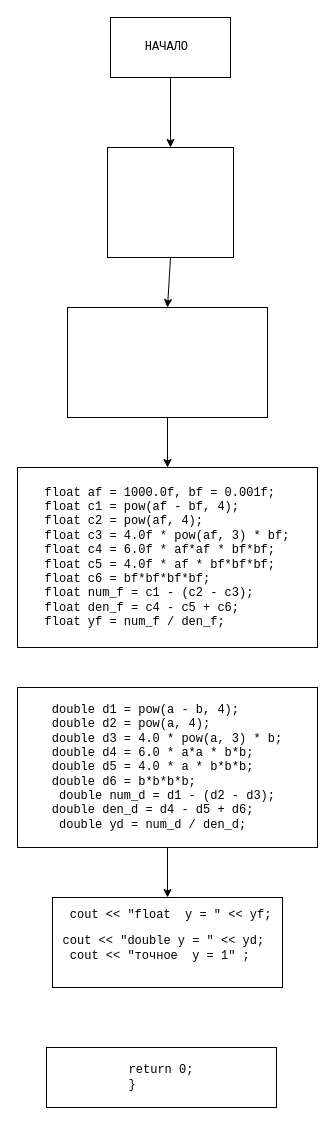
The diagram is 335 pixels wide and 1125 high, and some of its shapes have lost their labels. The shapes that lost their labels are listed below. From the top down, each one's box as (x1, y1, x2, y2) in pixels, then its label:
(106, 146, 234, 258): #include <iostream> #include <iomanip> #include <cmath> using namespace std;
(66, 306, 268, 418): int main () { double a = 1000.0; double b = 0.001;
